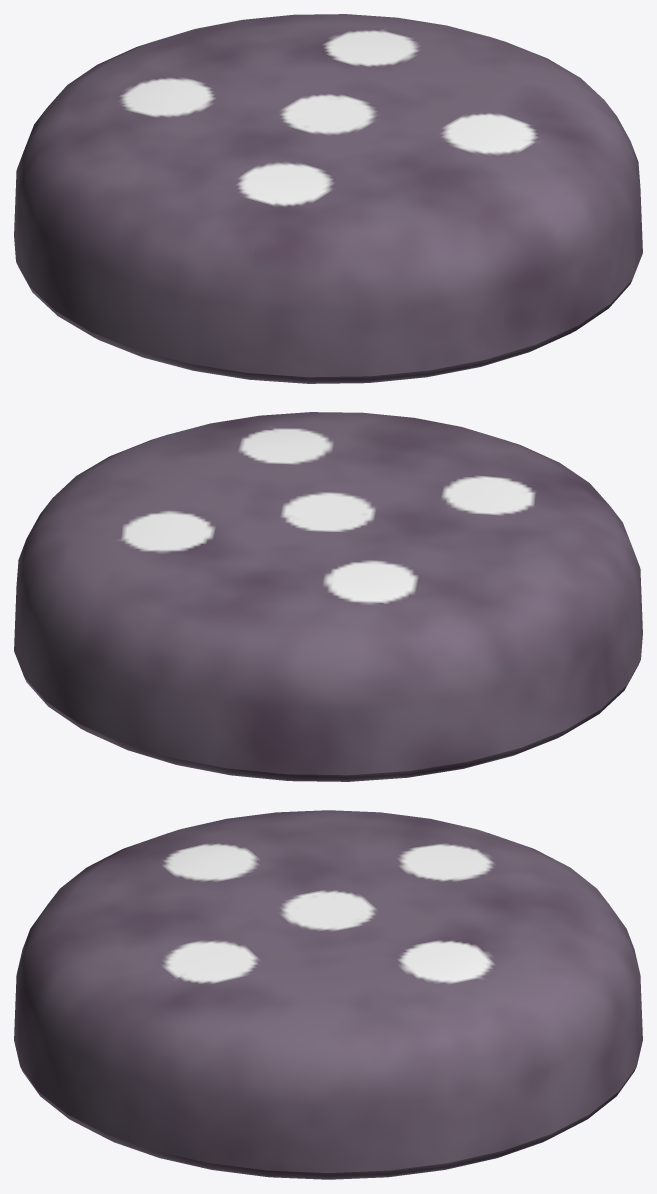
The model's file is BlackPiece.glb.
The picture shows the model from 3 angles, top to bottom: view 1: azimuth 30°, elevation 25°; view 2: azimuth 150°, elevation 25°; view 3: azimuth 270°, elevation 25°; orthographic projection.
Visible parts, largest first — view 1: Black Piece; view 2: Black Piece; view 3: Black Piece.
Part boxes in pixels (x1,y1,x2,y2): Black Piece: [14, 14, 642, 383]; Black Piece: [14, 412, 642, 781]; Black Piece: [14, 810, 642, 1179].
Bounding box in the file's own units: 0.5664 × 0.1477 × 0.5664.
Materials: 1 (1 with a texture image).
